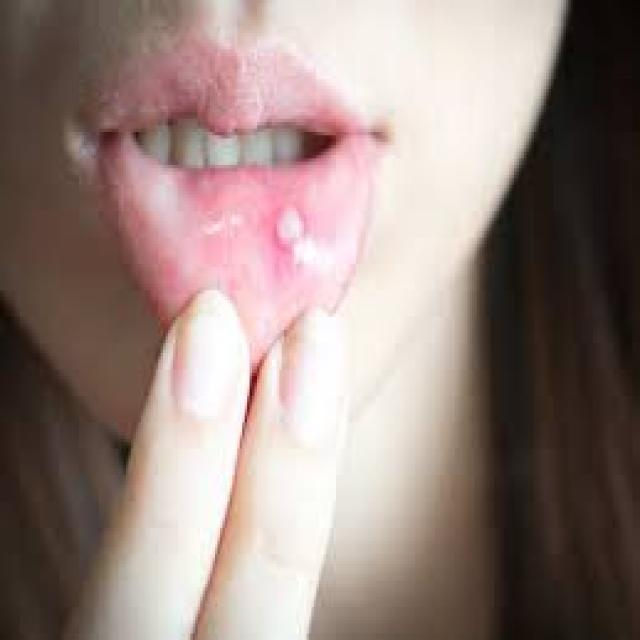processing_area: (110, 126, 367, 348)
ulcer-detection: (252, 165, 325, 291)
